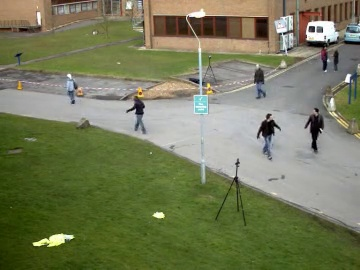person: (305, 107, 325, 151), (306, 107, 325, 152), (66, 74, 79, 103)
